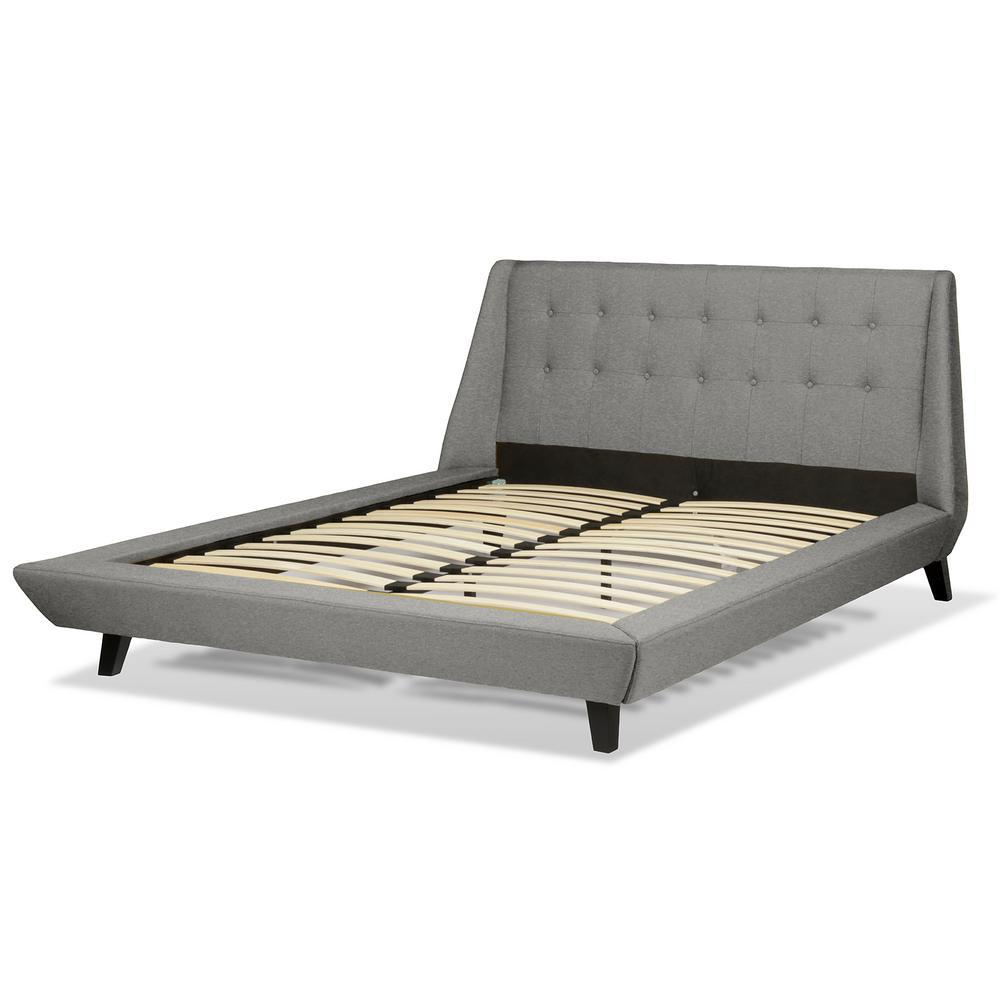bed: (5, 254, 1000, 768)
